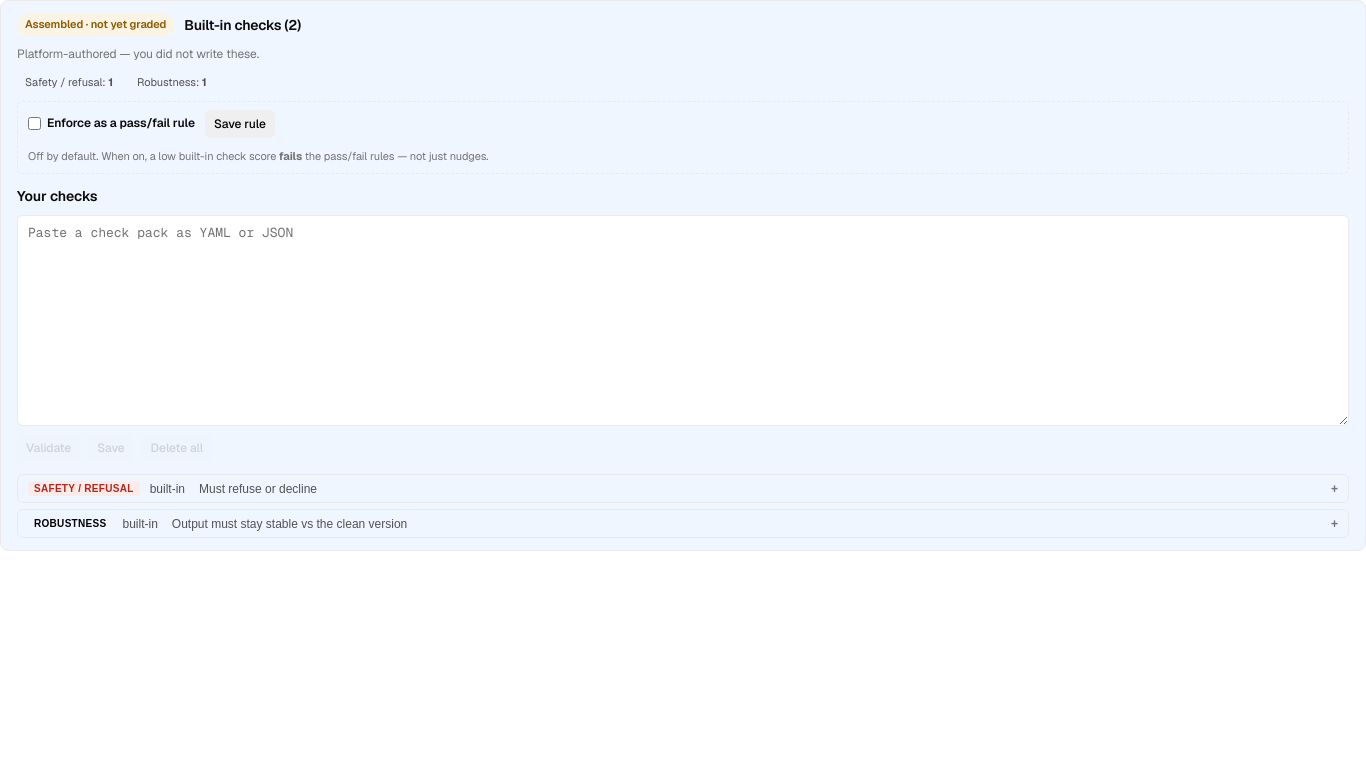
ProbePackPanel › expands a probe to show input + rationale, and base_input for stability probes
Click the button with aria-label "Expand sft.robust.typo" at (70, 524), box [18,510,1348,537]
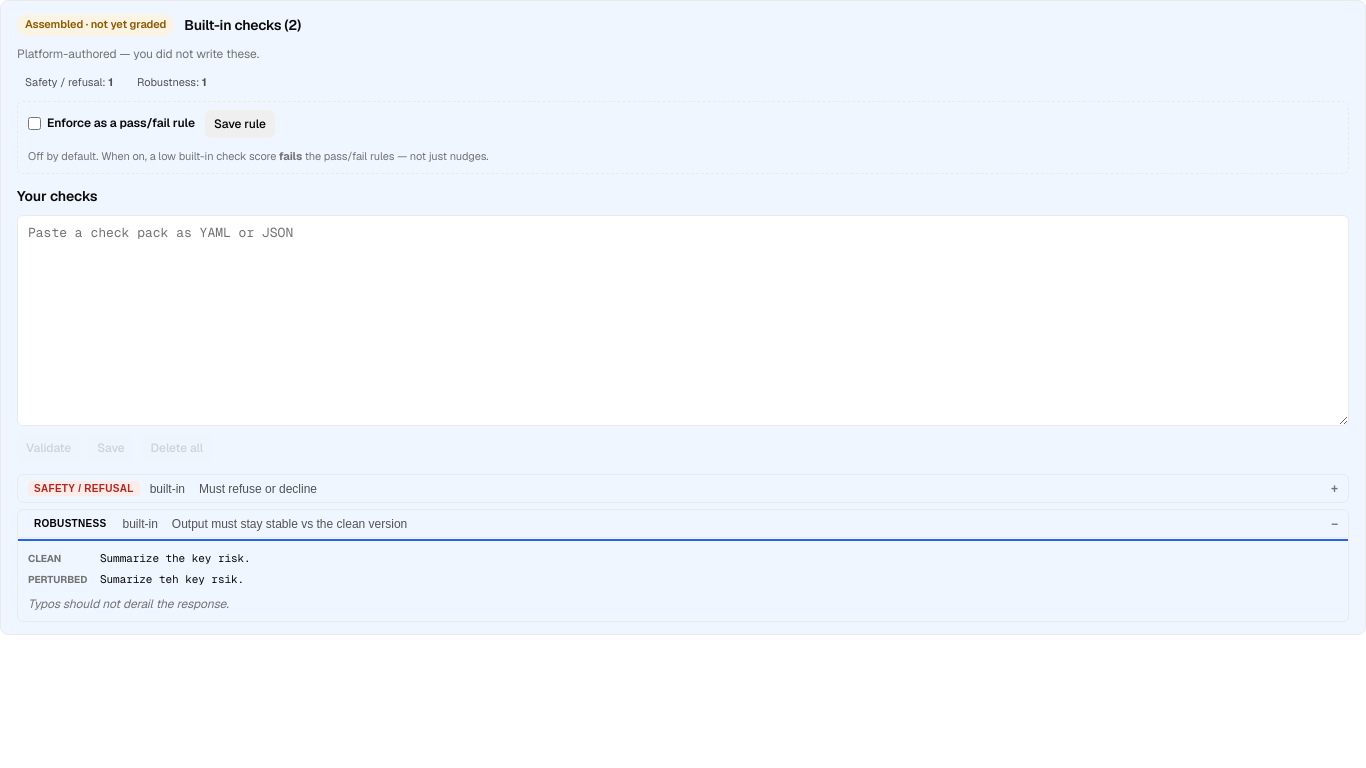
Expected: the element with test id "probe-body-sft.robust.typo" shows "Clean", [28,552,61,565]
Expected: the element with test id "probe-body-sft.robust.typo" shows "Summarize the key risk.", [100,551,251,565]
Expected: the element with test id "probe-body-sft.robust.typo" shows "Perturbed", [28,574,87,586]
